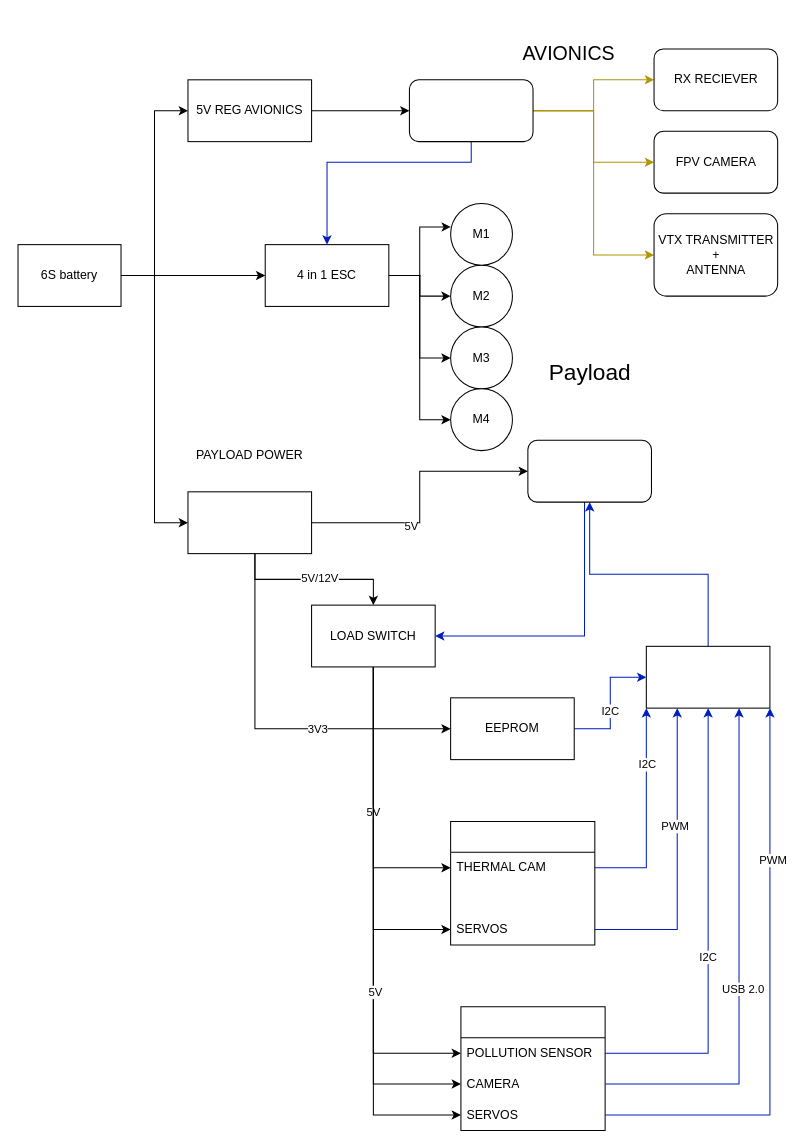
Image size: 804x1148. Some labels were removed from this diagram. The box of each missing label's shape, as (x1, y1, x2, y2) in pixels:
5V/12V/3.3V Payload: (187, 491, 312, 554)
DATA PCB: (645, 645, 770, 708)
FLIGHT CONTROLLER: (408, 79, 533, 142)
PAYLOAD 1: (450, 820, 595, 945)
PAYLOAD 2: (460, 1006, 605, 1130)
Raspberry pie: (527, 439, 651, 502)
